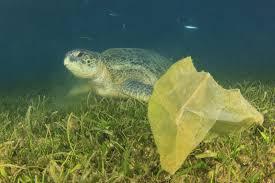Trash: (146, 56, 255, 168)
